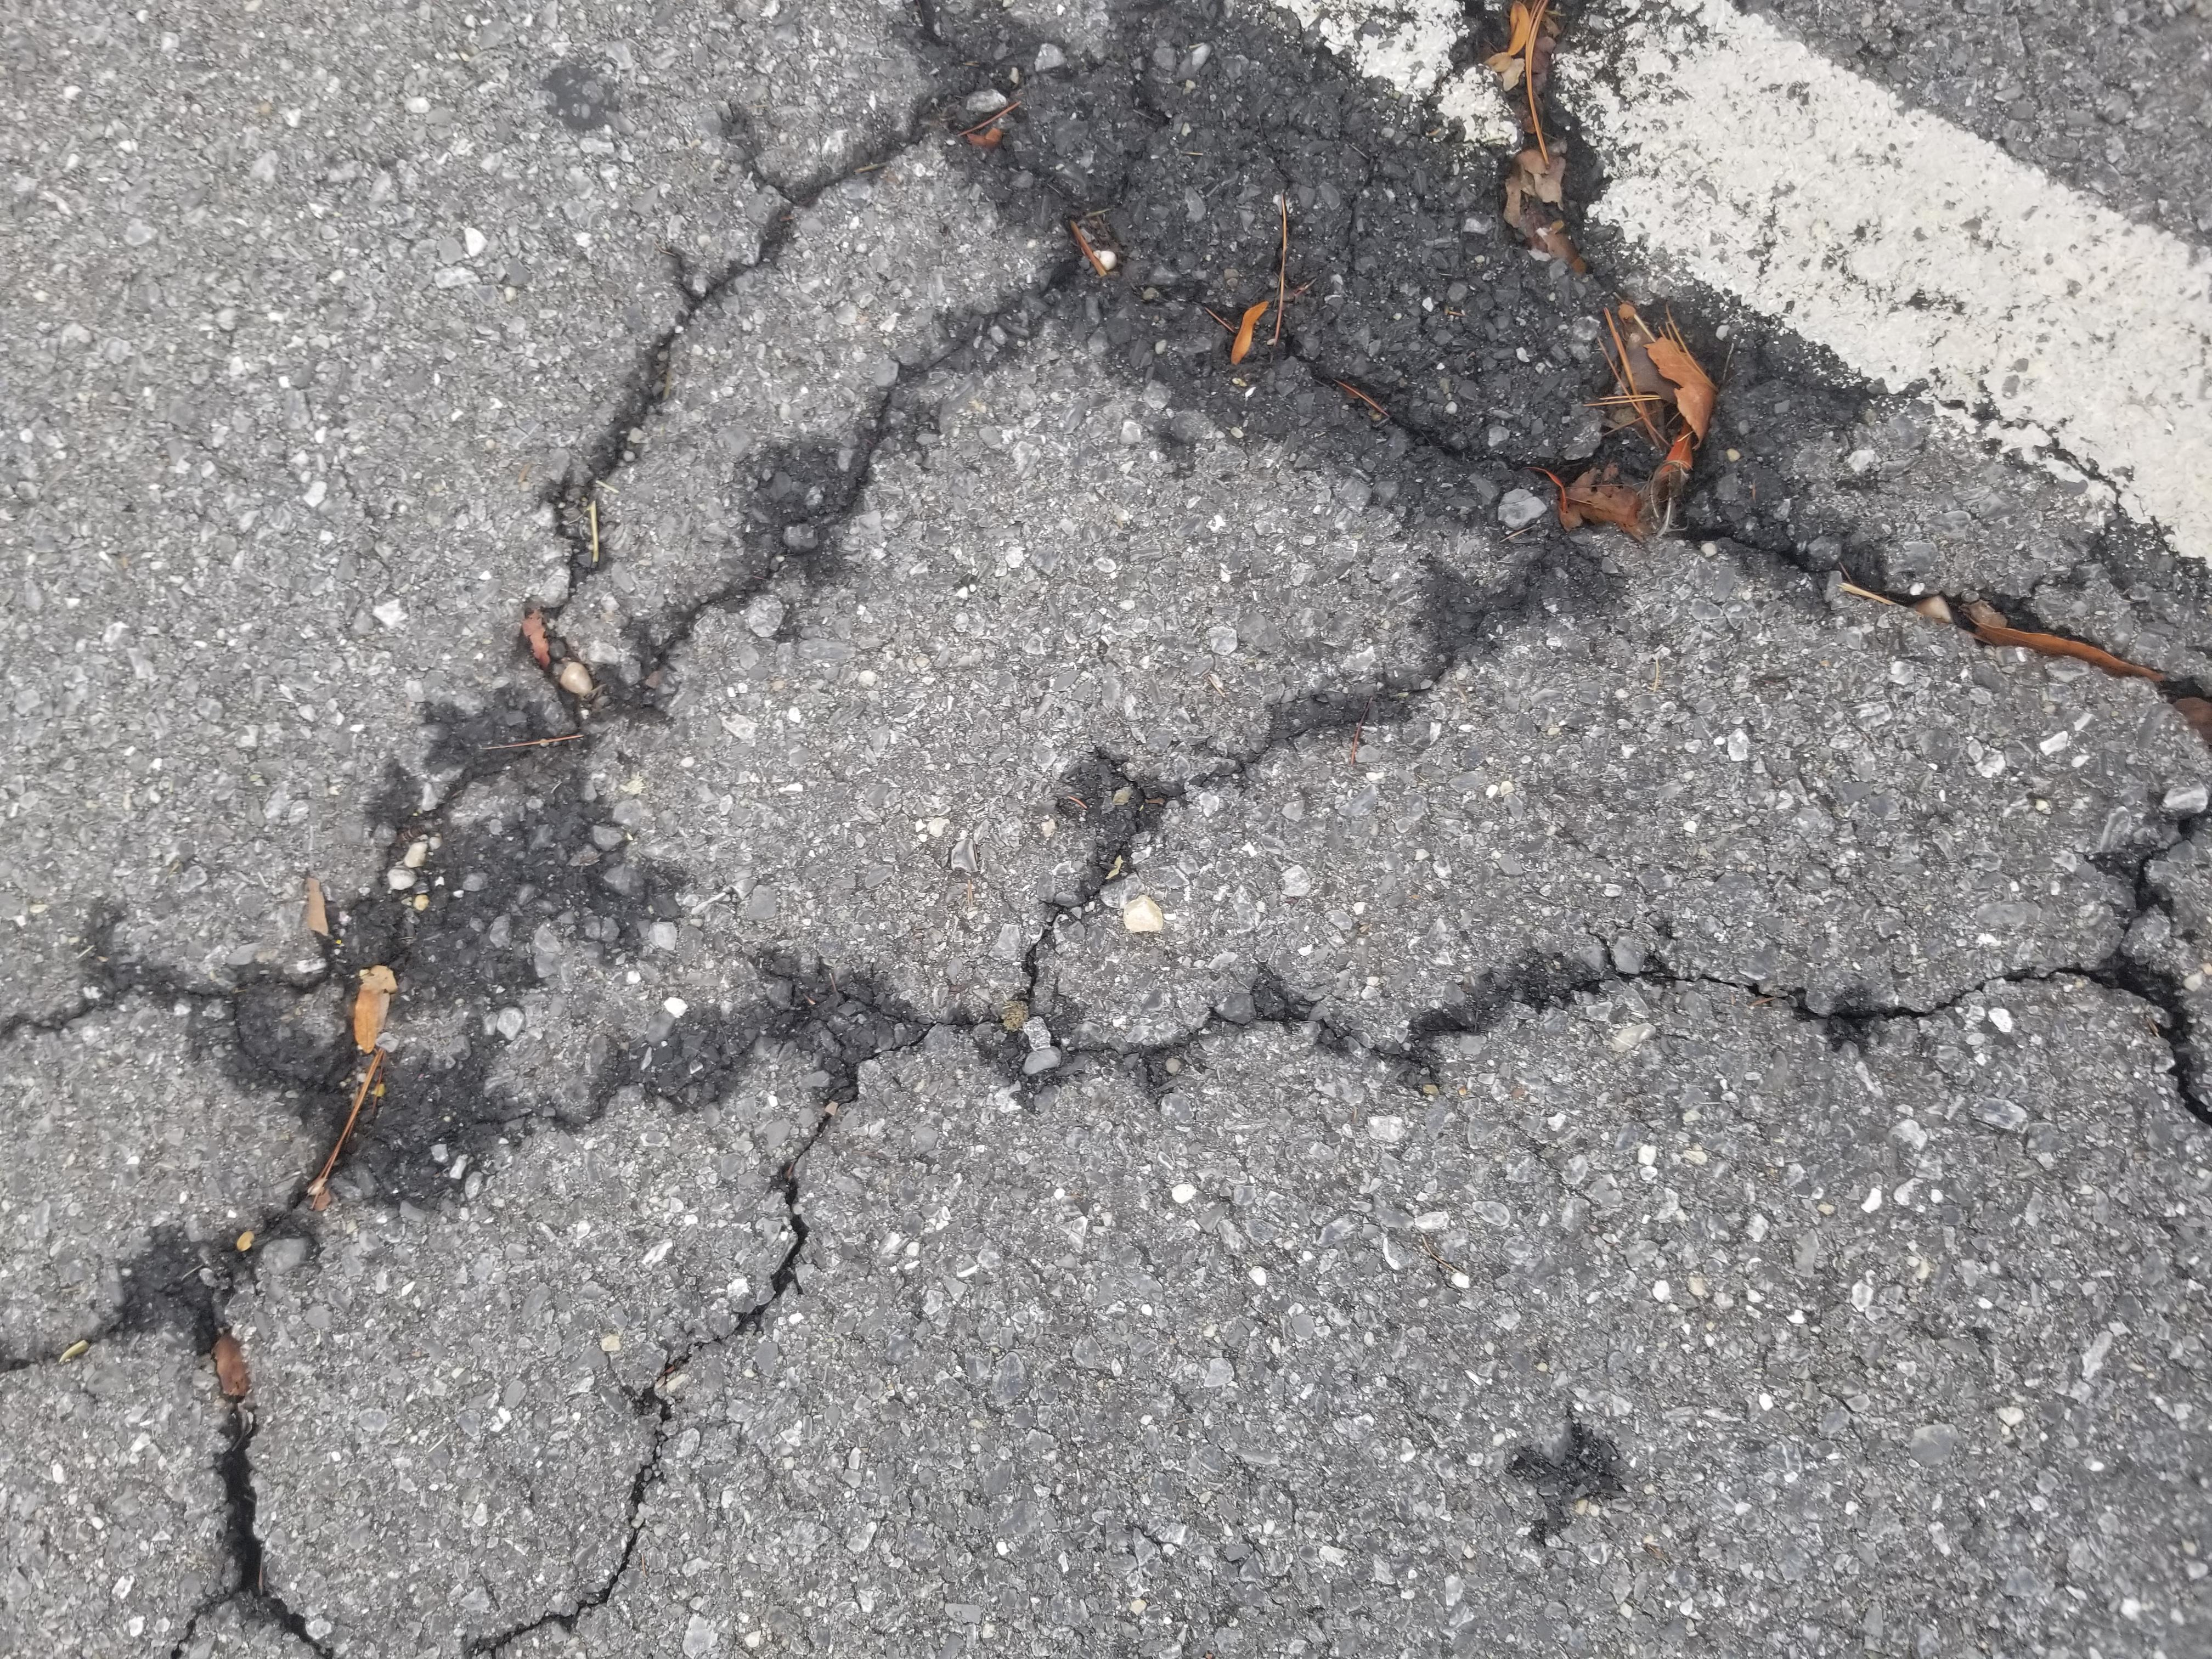alligator-crack: (9, 0, 2212, 1537)
